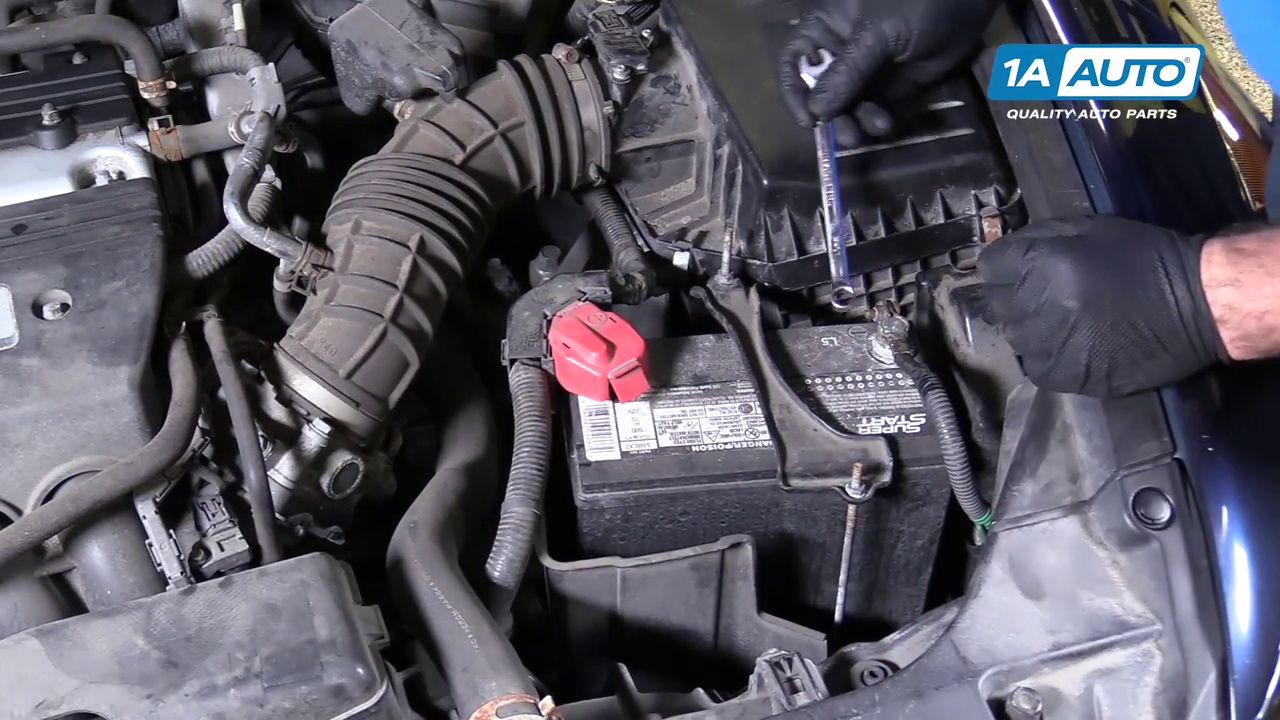battery: (548, 291, 951, 509)
neg_connected: (845, 267, 941, 402)
pos_connected: (535, 299, 662, 408)
